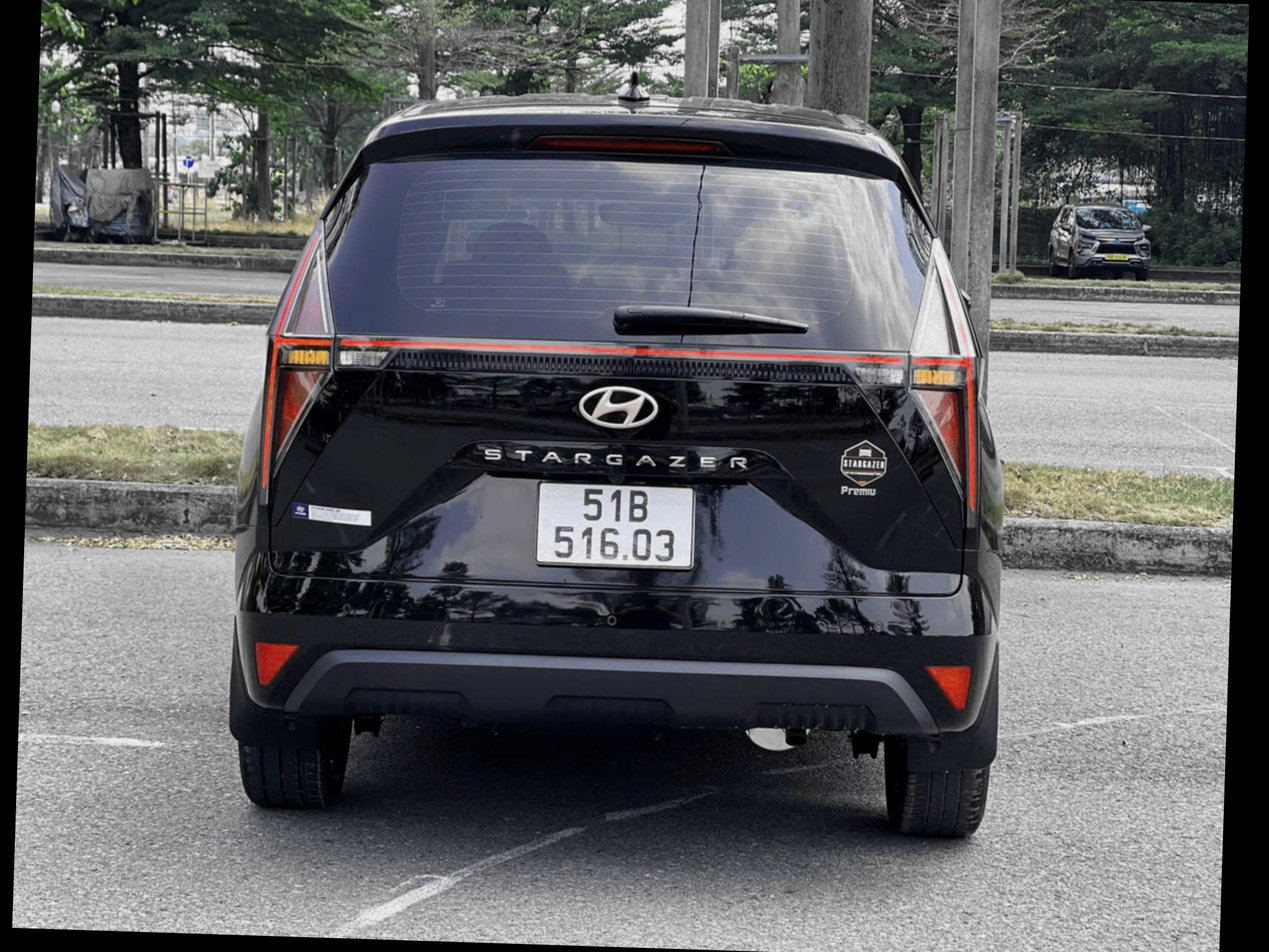Bien-so: (531, 481, 705, 576)
